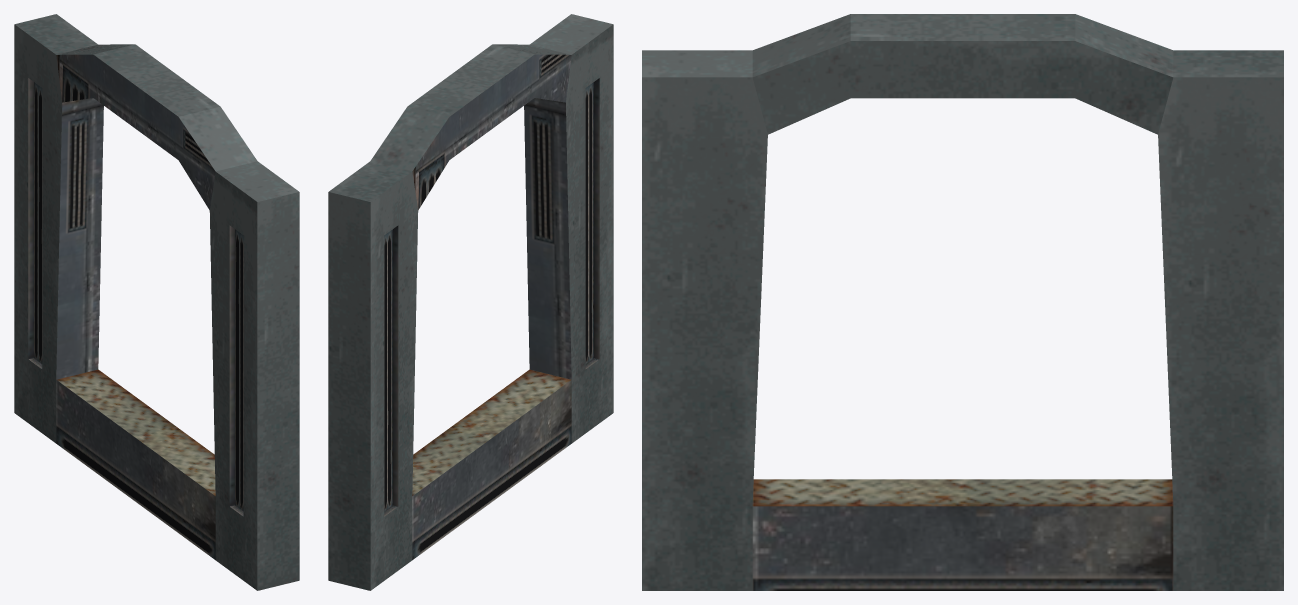
File: SM_BLD_ROOM_GATE.fbx
3 renders of one model, left to right at view 1: azimuth 30°, elevation 25°; view 2: azimuth 150°, elevation 25°; view 3: azimuth 270°, elevation 25°, orthographic. The views are drawn at different scales.
Visible parts, largest first — view 1: SM_BLD_ROOM_GATE; view 2: SM_BLD_ROOM_GATE; view 3: SM_BLD_ROOM_GATE.
Boxes of the visible parts, left/top/right/bottom form: SM_BLD_ROOM_GATE: left=14, top=14, right=299, bottom=590; SM_BLD_ROOM_GATE: left=328, top=14, right=613, bottom=590; SM_BLD_ROOM_GATE: left=642, top=14, right=1283, bottom=590.
Bounding box in the file's own units: 0.4 × 3.78 × 4.
